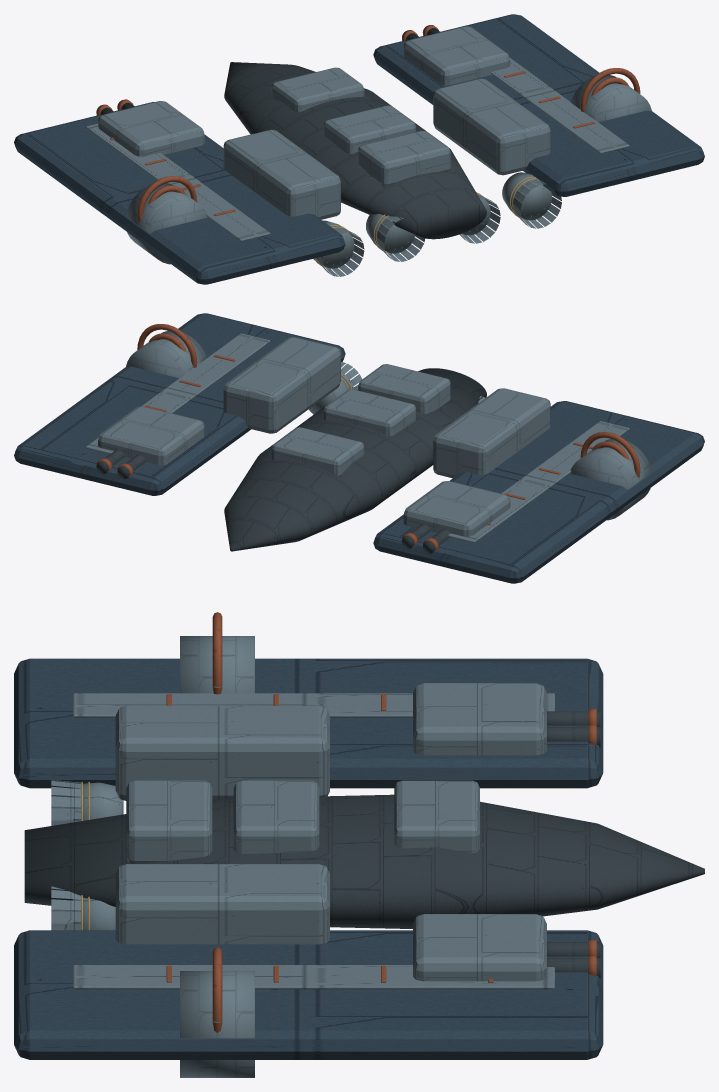
The model's file is canopy.glb.
3 views of the same model, one above another, from view 1: azimuth 30°, elevation 25°; view 2: azimuth 150°, elevation 25°; view 3: azimuth 270°, elevation 25° (orthographic). The views are drawn at different scales.
Visible parts, largest first — view 1: core-titanium-surfaces, core-navy-surfaces, core-graphite-surfaces, part_1-titanium-surfaces, part_0-titanium-surfaces, part_2-titanium-surfaces, part_3-titanium-surfaces, part_3-hostile-surfaces, part_2-hostile-surfaces; view 2: core-navy-surfaces, core-titanium-surfaces, core-graphite-surfaces, part_1-titanium-surfaces, part_0-titanium-surfaces, part_2-titanium-surfaces, part_3-titanium-surfaces, part_2-hostile-surfaces, part_3-hostile-surfaces, part_1-graphite-surfaces, part_0-graphite-surfaces; view 3: core-navy-surfaces, core-titanium-surfaces, core-graphite-surfaces, part_0-titanium-surfaces, part_1-titanium-surfaces, part_3-titanium-surfaces, part_2-titanium-surfaces, part_0-graphite-surfaces, part_1-graphite-surfaces, part_3-hostile-surfaces, part_2-hostile-surfaces.
Part boxes in pixels (x1=…): core-titanium-surfaces: x1=85, y1=57, x2=629, y2=276; core-navy-surfaces: x1=14, y1=14, x2=704, y2=284; core-graphite-surfaces: x1=224, y1=62, x2=486, y2=239; part_1-titanium-surfaces: x1=403, y1=26, x2=510, y2=85; part_0-titanium-surfaces: x1=98, y1=101, x2=204, y2=156; part_2-titanium-surfaces: x1=126, y1=183, x2=207, y2=264; part_3-titanium-surfaces: x1=570, y1=75, x2=651, y2=122; part_3-hostile-surfaces: x1=580, y1=68, x2=640, y2=111; part_2-hostile-surfaces: x1=137, y1=176, x2=197, y2=221; core-navy-surfaces: x1=14, y1=313, x2=704, y2=583; core-titanium-surfaces: x1=85, y1=333, x2=629, y2=542; core-graphite-surfaces: x1=224, y1=368, x2=486, y2=551; part_1-titanium-surfaces: x1=98, y1=406, x2=204, y2=465; part_0-titanium-surfaces: x1=403, y1=481, x2=510, y2=536; part_2-titanium-surfaces: x1=570, y1=439, x2=651, y2=520; part_3-titanium-surfaces: x1=125, y1=331, x2=206, y2=378; part_2-hostile-surfaces: x1=580, y1=432, x2=640, y2=477; part_3-hostile-surfaces: x1=137, y1=324, x2=197, y2=367; part_1-graphite-surfaces: x1=96, y1=449, x2=145, y2=479; part_0-graphite-surfaces: x1=402, y1=524, x2=450, y2=553; core-navy-surfaces: x1=14, y1=658, x2=603, y2=1059; core-titanium-surfaces: x1=51, y1=693, x2=554, y2=989; core-graphite-surfaces: x1=24, y1=794, x2=704, y2=928; part_0-titanium-surfaces: x1=413, y1=683, x2=546, y2=755; part_1-titanium-surfaces: x1=413, y1=914, x2=546, y2=981; part_3-titanium-surfaces: x1=180, y1=971, x2=254, y2=1077; part_2-titanium-surfaces: x1=180, y1=636, x2=254, y2=693; part_0-graphite-surfaces: x1=547, y1=711, x2=600, y2=747; part_1-graphite-surfaces: x1=547, y1=942, x2=600, y2=977; part_3-hostile-surfaces: x1=212, y1=947, x2=222, y2=1032; part_2-hostile-surfaces: x1=212, y1=612, x2=222, y2=694.
Size of the model in its own units: 17 by 2.88 by 12.9.
Materials: 5 (5 with a texture image).
